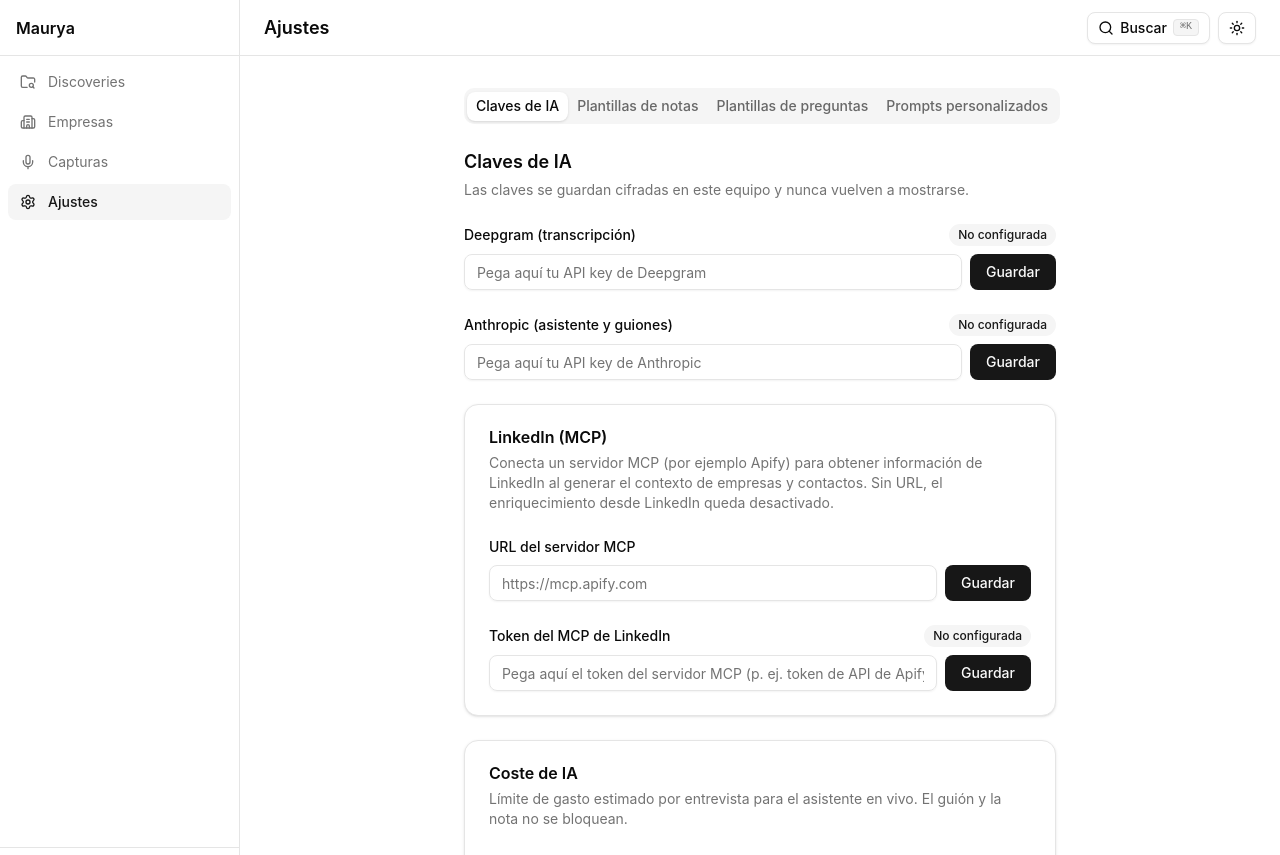
it: secciones bajo el layout (SPEC-009) › Ajustes bajo el layout › keeps the settings tabs functional and no longer shows the "Volver" back button
Expected: the password field named "Deepgram (transcripción)" is shown, [464, 254, 962, 290]
Click the tab "Plantillas de notas".
click(638, 106)  # box [568, 92, 708, 120]
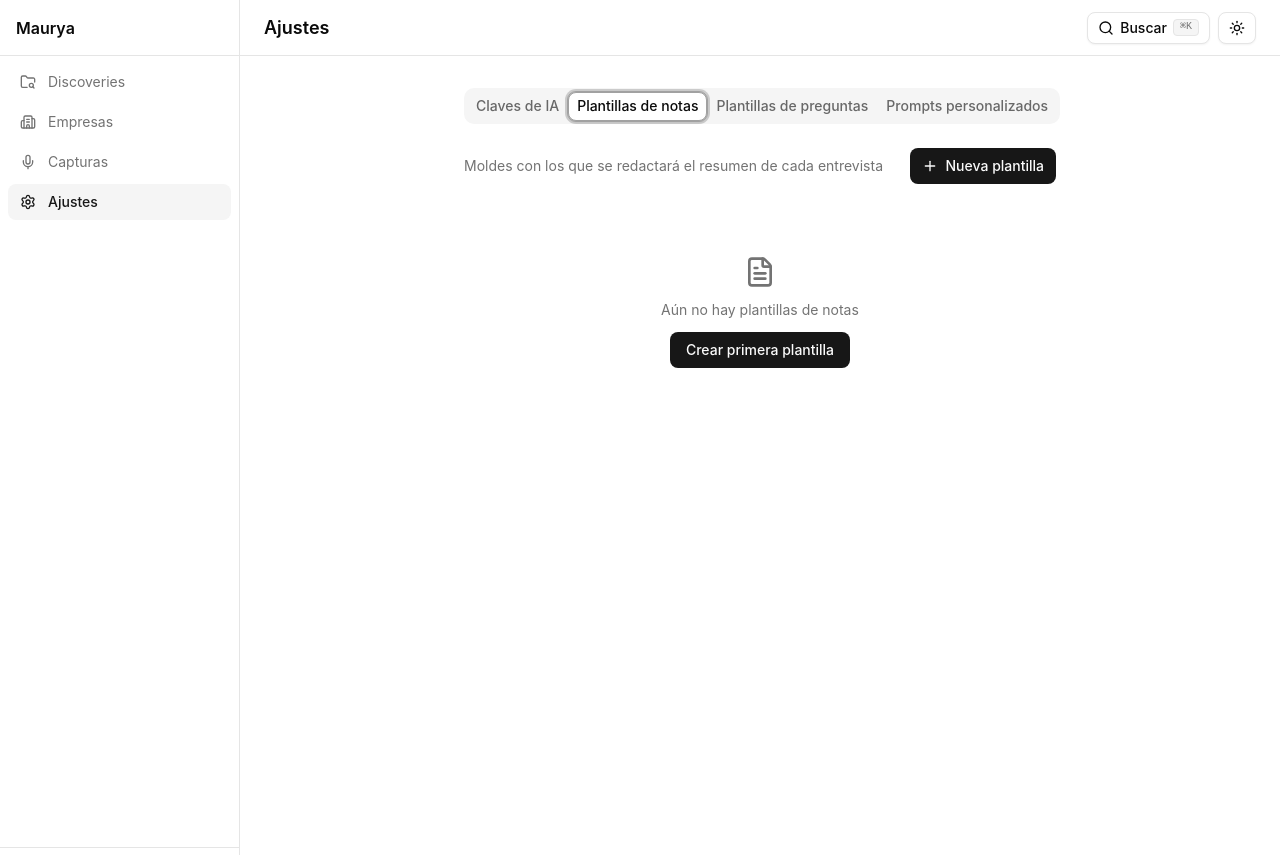
Now the text "Aún no hay plantillas de notas" is shown, box [661, 300, 859, 320]
